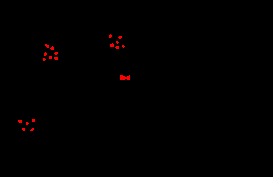Target: (120, 75, 130, 80), (110, 43, 114, 47), (45, 44, 49, 48), (50, 46, 54, 50), (109, 34, 112, 38), (118, 36, 122, 39), (115, 46, 119, 49), (44, 52, 47, 56), (54, 52, 58, 55), (54, 57, 58, 60), (18, 120, 22, 123), (30, 128, 34, 131), (116, 41, 119, 44), (122, 45, 125, 48), (49, 56, 52, 59), (43, 58, 46, 61), (32, 119, 35, 122), (26, 122, 29, 125), (22, 128, 25, 131)
